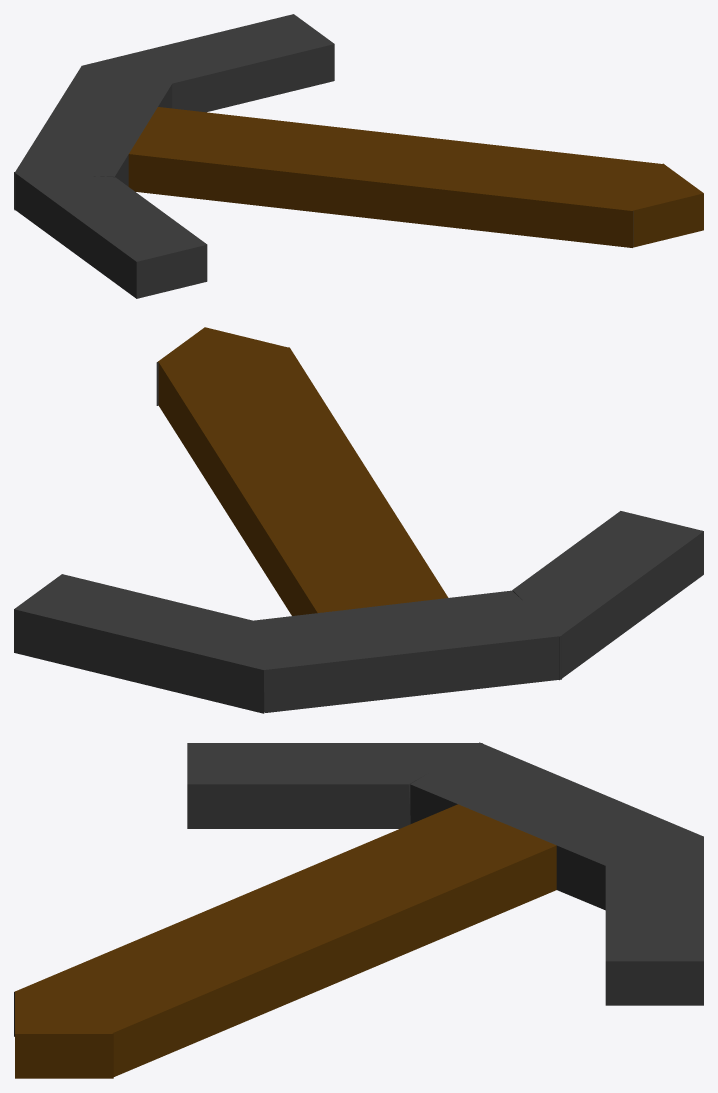
The model's file is Pickaxe.obj.
3 renders of one model, top to bottom at view 1: azimuth 30°, elevation 25°; view 2: azimuth 150°, elevation 25°; view 3: azimuth 270°, elevation 25°, orthographic. The views are drawn at different scales.
Parts seen in each view (by area): view 1: cuboid; view 2: cuboid; view 3: cuboid.
Part boxes in pixels (x1,y1,x2,y2): cuboid: (14, 14, 703, 298); cuboid: (14, 327, 703, 713); cuboid: (14, 742, 703, 1078).
Size of the model in its own units: 0.8762 by 0.0625 by 0.8764.
Materials: 1 (1 with a texture image).
